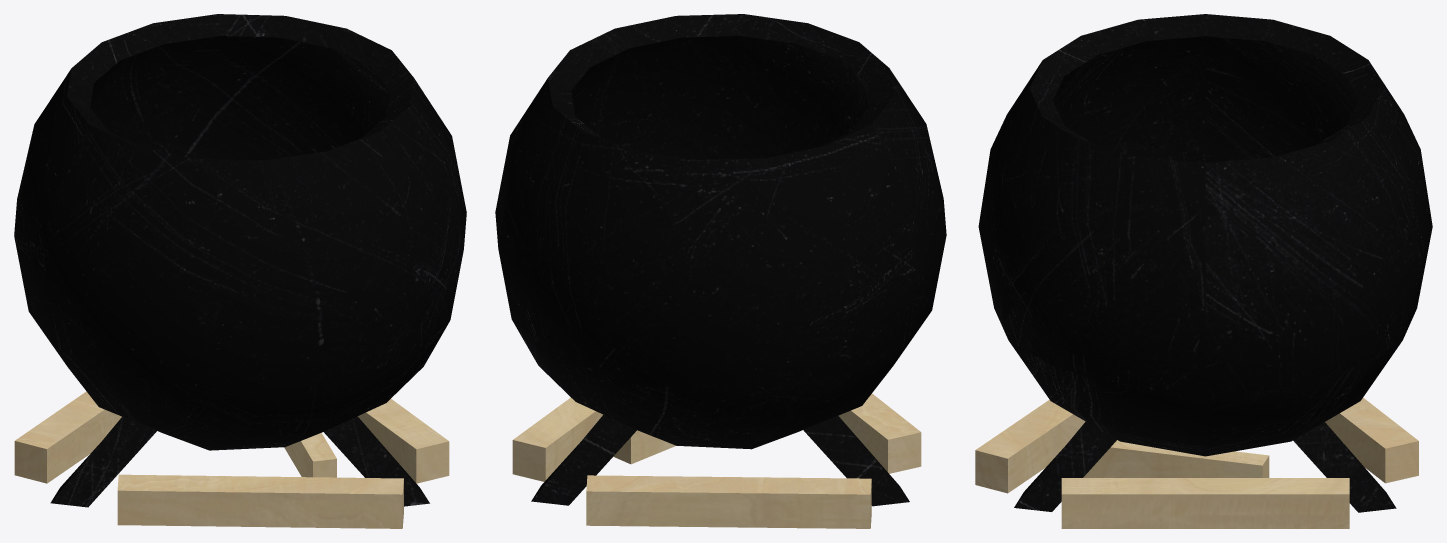
Rendered from Cauldron_Placeholder.glb.
3 renders of one model, left to right at view 1: azimuth 30°, elevation 25°; view 2: azimuth 150°, elevation 25°; view 3: azimuth 270°, elevation 25°, orthographic.
Parts seen in each view (by area): view 1: Cauldron_Placeholder; view 2: Cauldron_Placeholder; view 3: Cauldron_Placeholder.
Part boxes in pixels (<box>): Cauldron_Placeholder: <box>14,14,466,528</box>; Cauldron_Placeholder: <box>495,14,946,528</box>; Cauldron_Placeholder: <box>975,14,1432,528</box>.
Bounding box in the file's own units: 1.15 × 1.04 × 1.16.
Materials: 2 (2 with a texture image).
